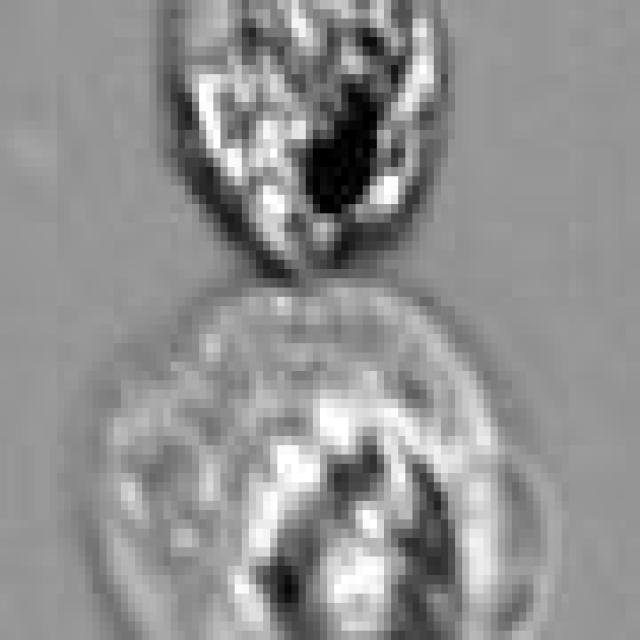Cancer Cell: (92, 278, 526, 640)
WBC: (156, 10, 448, 278)
